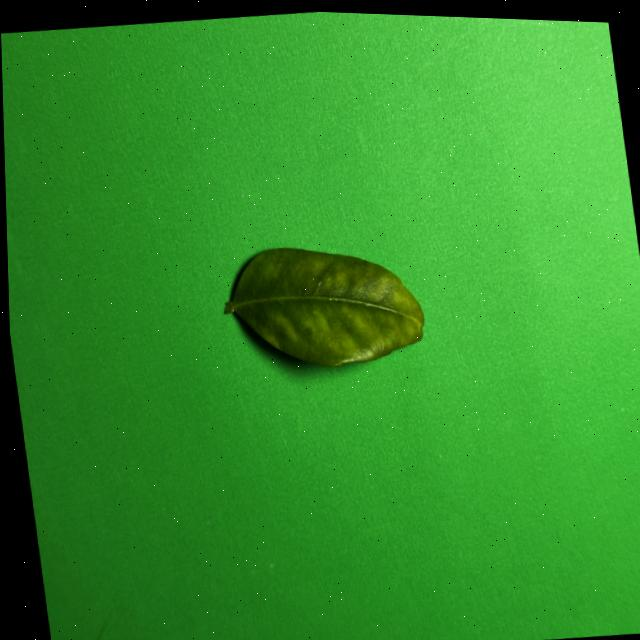greening: (225, 247, 423, 365)
